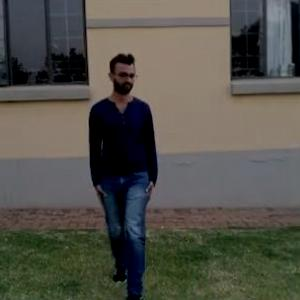follow: (80, 37, 161, 299)
